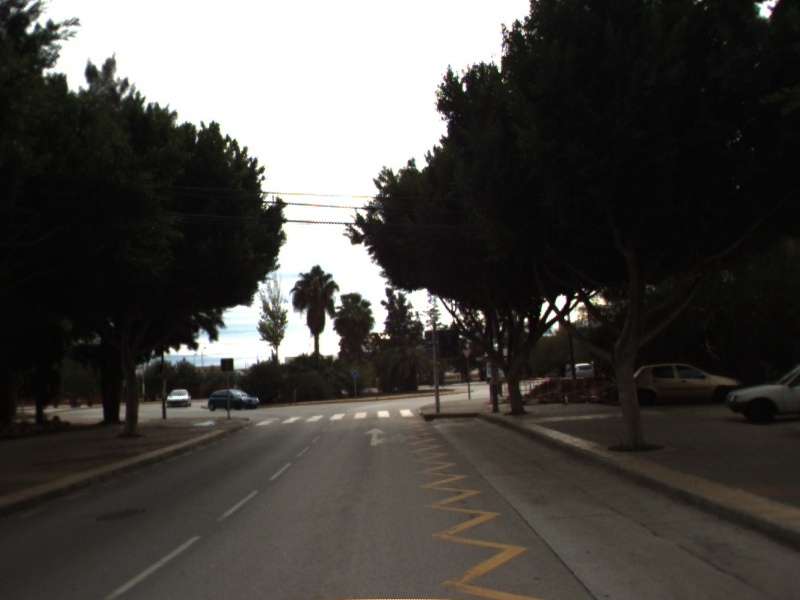STRAIGHT_RIGHT: (361, 426, 411, 448)
